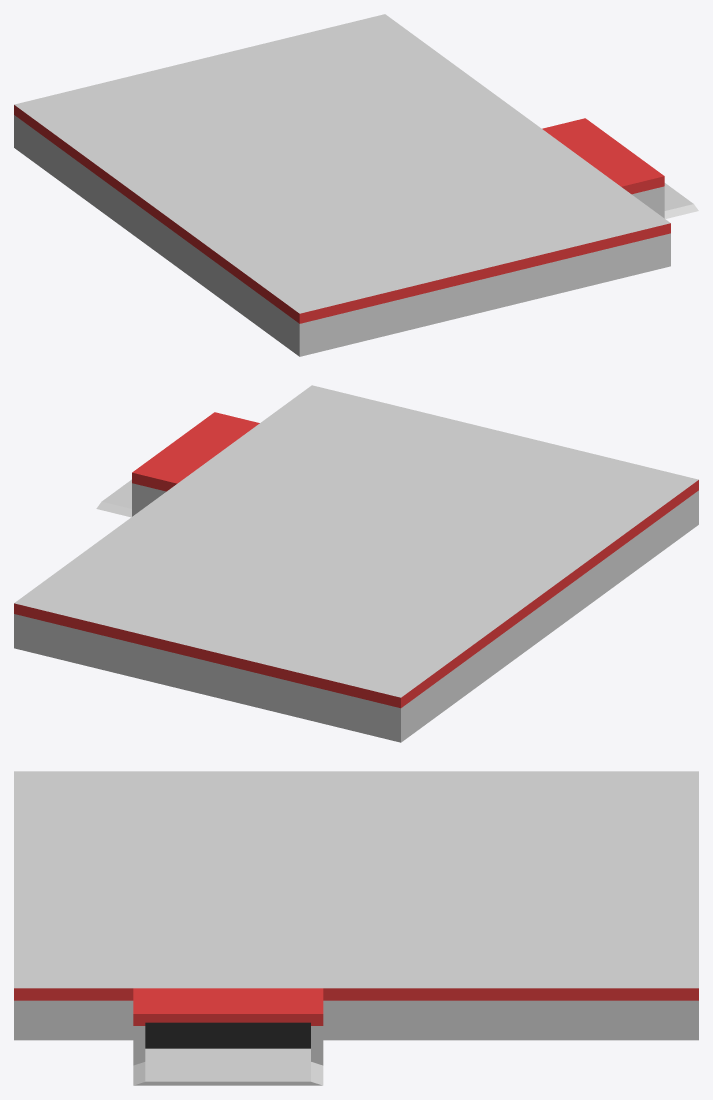
Rendered from Hospital_Bottom.fbx.
The picture shows the model from 3 angles, top to bottom: view 1: azimuth 30°, elevation 25°; view 2: azimuth 150°, elevation 25°; view 3: azimuth 270°, elevation 25°; orthographic projection. The views are drawn at different scales.
Visible parts, largest first — view 1: Hospital_Bottom; view 2: Hospital_Bottom; view 3: Hospital_Bottom.
Part boxes in pixels (x1,y1,x2,y2): Hospital_Bottom: [14, 14, 698, 356]; Hospital_Bottom: [14, 385, 698, 742]; Hospital_Bottom: [14, 771, 698, 1085].
Bounding box in the file's own units: 348 × 32 × 384.
